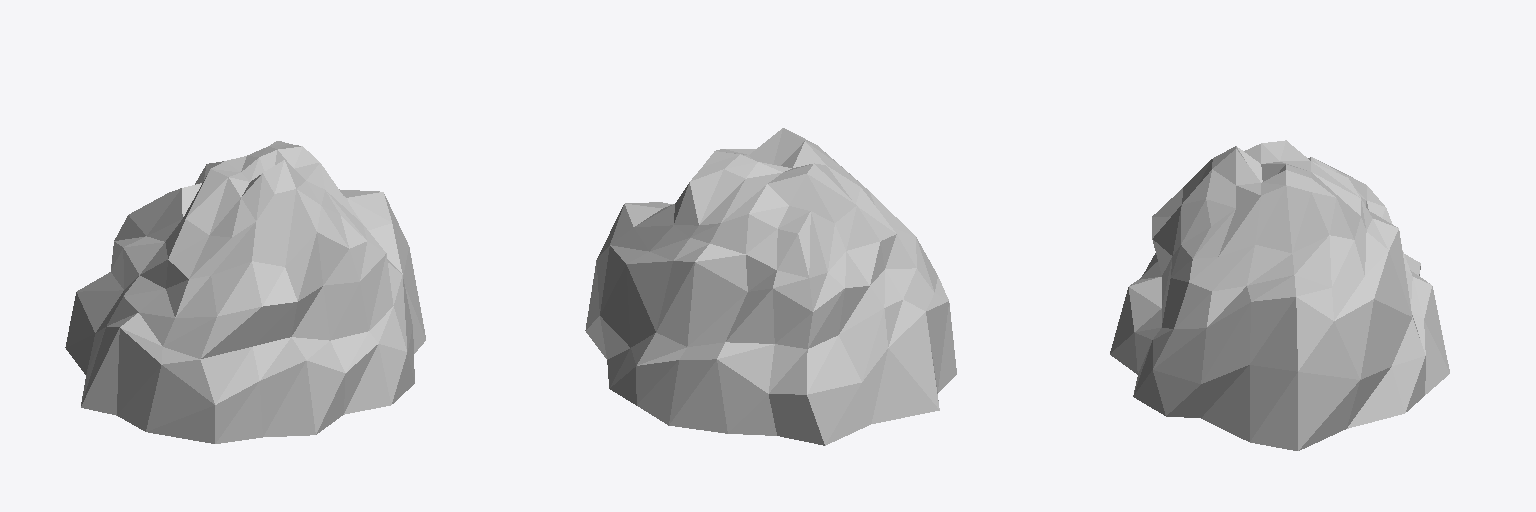
File: rock_2.obj
The picture shows the model from 3 angles: view 1: azimuth 30°, elevation 25°; view 2: azimuth 150°, elevation 25°; view 3: azimuth 270°, elevation 25°; orthographic projection.
Visible parts, largest first — view 1: pCube3; view 2: pCube3; view 3: pCube3.
Boxes of the visible parts, x1=… form: pCube3: x1=65, y1=141, x2=425, y2=443; pCube3: x1=585, y1=128, x2=956, y2=445; pCube3: x1=1110, y1=140, x2=1449, y2=450.
Bounding box in the file's own units: 9.29 × 5.66 × 7.89.